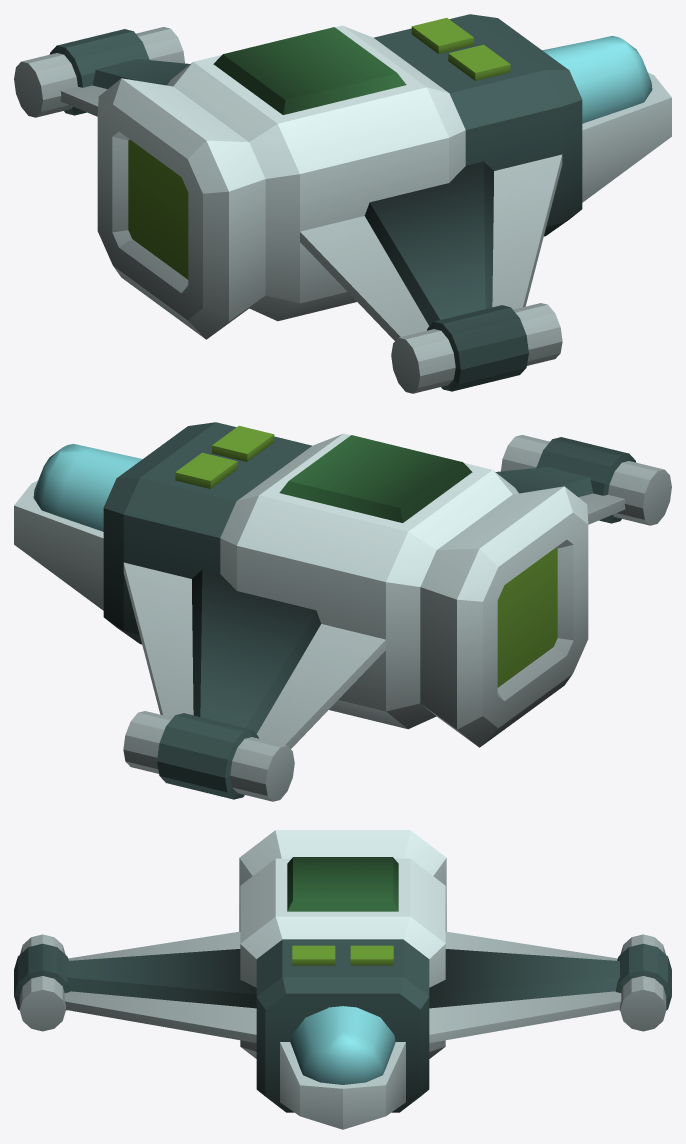
Rendered from Hauler_2.fbx.
3 renders of one model, top to bottom at view 1: azimuth 30°, elevation 25°; view 2: azimuth 150°, elevation 25°; view 3: azimuth 270°, elevation 25°, orthographic. The views are drawn at different scales.
Parts seen in each view (by area): view 1: Hauler_2; view 2: Hauler_2; view 3: Hauler_2.
Part boxes in pixels (x1,y1,x2,y2): Hauler_2: (14, 14, 671, 393); Hauler_2: (14, 422, 671, 801); Hauler_2: (14, 830, 671, 1129).
Size of the model in its own units: 447 by 177 by 635.
1 material, 1 textured.
